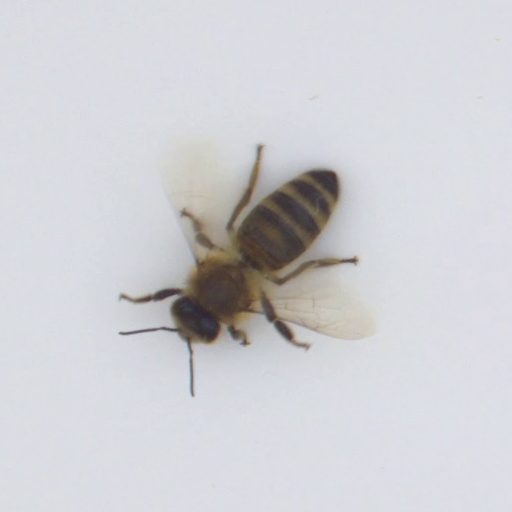Bee: (157, 145, 366, 360)
Thorax: (190, 261, 253, 325)
